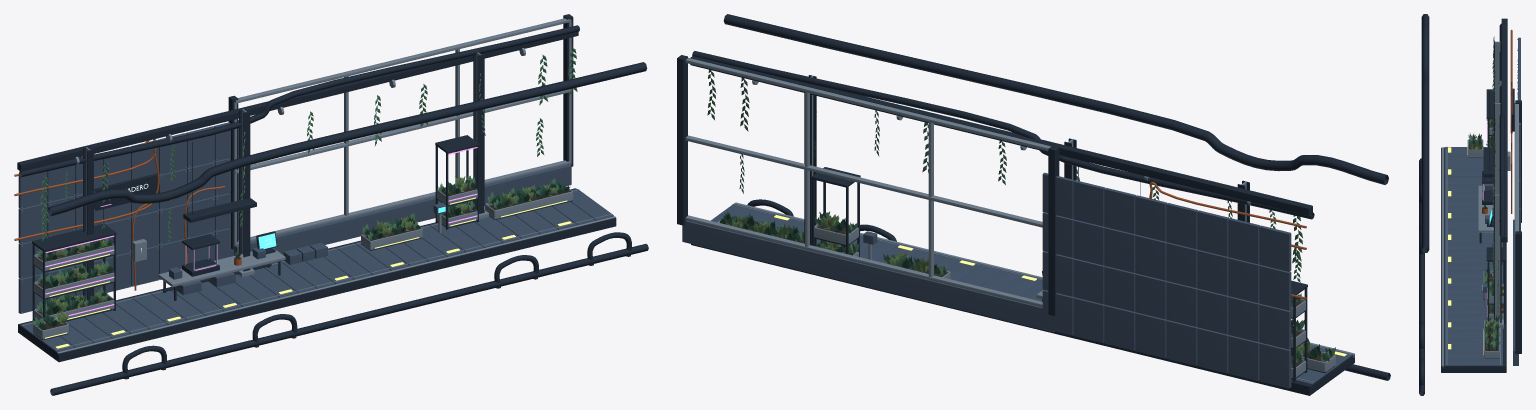
File: Invernadero.fbx
The picture shows the model from 3 angles, left to right: view 1: azimuth 30°, elevation 25°; view 2: azimuth 150°, elevation 25°; view 3: azimuth 270°, elevation 25°; orthographic projection. The views are drawn at different scales.
Parts seen in each view (by area): view 1: 01_PisoYParedLocal_Malla, 09_PrimerPlano_Malla, 03_Estructura_Malla, 02_Ventanal_SinFondo_Malla, 04_Tuberias_Malla, 08_Luminarias_Malla, Mesa_Tablero, Estante_Izquierdo_Techo, Jardinera_Derecha_Pared, Estante_Izquierdo_Bandeja_Pared.002, Estante_Izquierdo_Bandeja_Pared.004; view 2: 01_PisoYParedLocal_Malla, 02_Ventanal_SinFondo_Malla, 09_PrimerPlano_Malla, 03_Estructura_Malla, 04_Tuberias_Malla; view 3: 01_PisoYParedLocal_Malla, 09_PrimerPlano_Malla, 03_Estructura_Malla, 02_Ventanal_SinFondo_Malla, 04_Tuberias_Malla, 08_Luminarias_Malla, Mesa_Tablero, Estante_Izquierdo_Techo, Estante_Derecho_Techo, Camara_Cultivo_Base, Estante_Derecho_Poste.002, Jardinera_Derecha_Tierra (+3 smaller).
Boxes of the visible parts, x1,y1,x2,y2 form: 01_PisoYParedLocal_Malla: (18,120,616,362); 09_PrimerPlano_Malla: (47,62,648,395); 03_Estructura_Malla: (17,31,578,304); 02_Ventanal_SinFondo_Malla: (228,14,573,249); 04_Tuberias_Malla: (14,25,579,290); 08_Luminarias_Malla: (94,128,256,222); Mesa_Tablero: (158,248,285,287); Estante_Izquierdo_Techo: (32,223,116,252); Jardinera_Derecha_Pared: (494,191,572,219); Estante_Izquierdo_Bandeja_Pared.002: (45,272,114,298); Estante_Izquierdo_Bandeja_Pared.004: (45,245,114,270); 01_PisoYParedLocal_Malla: (682,172,1354,395); 02_Ventanal_SinFondo_Malla: (677,55,1059,316); 09_PrimerPlano_Malla: (723,14,1390,380); 03_Estructura_Malla: (690,56,1312,246); 04_Tuberias_Malla: (692,51,1314,299); 01_PisoYParedLocal_Malla: (1441,37,1520,372); 09_PrimerPlano_Malla: (1419,14,1429,395); 03_Estructura_Malla: (1492,18,1507,328); 02_Ventanal_SinFondo_Malla: (1514,100,1521,353); 04_Tuberias_Malla: (1498,23,1512,238); 08_Luminarias_Malla: (1483,88,1514,177); Mesa_Tablero: (1478,185,1493,232); Estante_Izquierdo_Techo: (1486,89,1493,119); Estante_Derecho_Techo: (1486,247,1506,261); Camara_Cultivo_Base: (1482,190,1493,204); Estante_Derecho_Poste.002: (1487,261,1489,318); Jardinera_Derecha_Tierra: (1485,322,1498,350).
Size of the model in its own units: 3200 by 1016 by 596.
